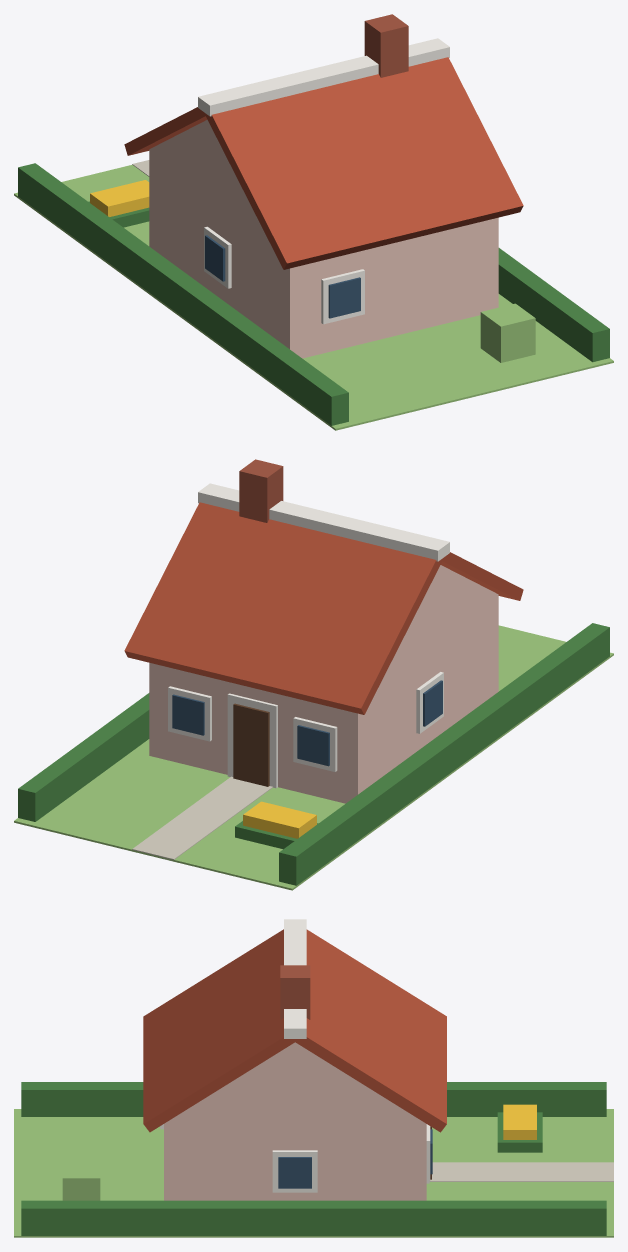
3 views of the same model, one above another, from view 1: azimuth 30°, elevation 25°; view 2: azimuth 150°, elevation 25°; view 3: azimuth 270°, elevation 25° (orthographic). The views are drawn at different scales.
Parts seen in each view (by area): view 1: roof (×2), house, hedge (×2), lawn, ridge, gable, tree_spot, chimney, window_glass (×2), window_frame (×2), flower_bed; view 2: roof (×2), house, hedge (×2), lawn, ridge, gable, path, window_glass (×3), door, window_frame (×3), chimney, flower_bed (+2 smaller); view 3: roof (×2), hedge (×2), lawn, house, gable, path, ridge, tree_spot, chimney, flower_bed, window_glass, flower_bed_edge (+1 smaller).
Part boxes in pixels (left/top/right/bottom): roof (×2): left=124, top=57, right=523, bottom=269; house: left=149, top=149, right=498, bottom=358; hedge (×2): left=18, top=163, right=609, bottom=425; lawn: left=14, top=165, right=613, bottom=430; ridge: left=198, top=38, right=449, bottom=116; gable: left=149, top=119, right=264, bottom=233; tree_spot: left=480, top=303, right=535, bottom=362; chimney: left=364, top=14, right=408, bottom=77; window_glass (×2): left=205, top=235, right=360, bottom=318; window_frame (×2): left=204, top=226, right=364, bottom=324; flower_bed: left=90, top=180, right=149, bottom=216; roof (×2): left=124, top=502, right=523, bottom=714; house: left=149, top=595, right=498, bottom=803; hedge (×2): left=18, top=623, right=609, bottom=885; lawn: left=14, top=625, right=613, bottom=890; ridge: left=198, top=483, right=449, bottom=561; gable: left=383, top=565, right=498, bottom=678; path: left=132, top=776, right=272, bottom=860; window_glass (×3): left=172, top=680, right=442, bottom=766; door: left=233, top=703, right=269, bottom=786; window_frame (×3): left=168, top=672, right=443, bottom=771; chimney: left=239, top=459, right=283, bottom=522; flower_bed: left=243, top=801, right=316, bottom=838; roof (×2): left=143, top=929, right=446, bottom=1132; hedge (×2): left=21, top=1082, right=606, bottom=1235; lawn: left=14, top=1109, right=613, bottom=1237; house: left=164, top=1118, right=426, bottom=1200; gable: left=174, top=1042, right=416, bottom=1117; path: left=430, top=1162, right=613, bottom=1181; ridge: left=284, top=919, right=306, bottom=1038; tree_spot: left=62, top=1162, right=100, bottom=1200; chimney: left=280, top=965, right=310, bottom=1019; flower_bed: left=503, top=1104, right=536, bottom=1139; window_glass: left=278, top=1157, right=311, bottom=1188; flower_bed_edge: left=497, top=1112, right=542, bottom=1152.
Size of the model in its own units: 8 by 6.8 by 16.
